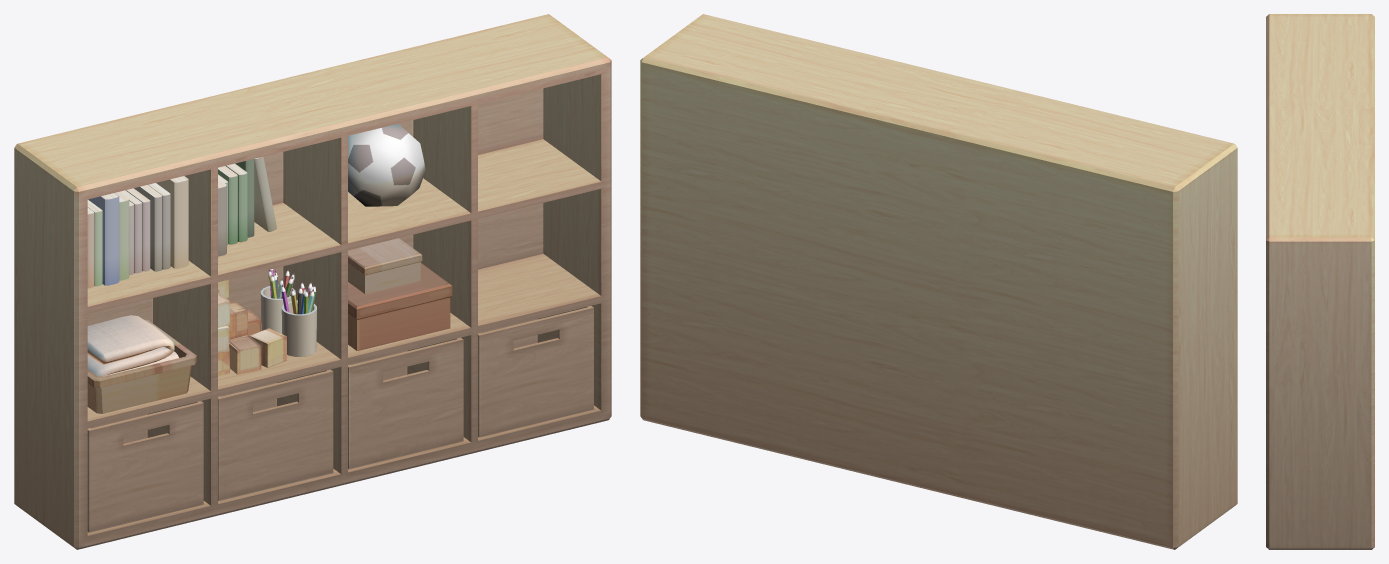
File: shelf_4x3_prop.fbx
The picture shows the model from 3 angles, left to right: view 1: azimuth 30°, elevation 25°; view 2: azimuth 150°, elevation 25°; view 3: azimuth 270°, elevation 25°; orthographic projection. The views are drawn at different scales.
Parts seen in each view (by area): view 1: shelf_4x3; view 2: shelf_4x3; view 3: shelf_4x3.
Boxes of the visible parts, x1,y1,x2,y2 form: shelf_4x3: (14, 14, 611, 549); shelf_4x3: (640, 14, 1237, 549); shelf_4x3: (1266, 14, 1374, 549).
Bounding box in the file's own units: 4.91 × 3.17 × 1.
